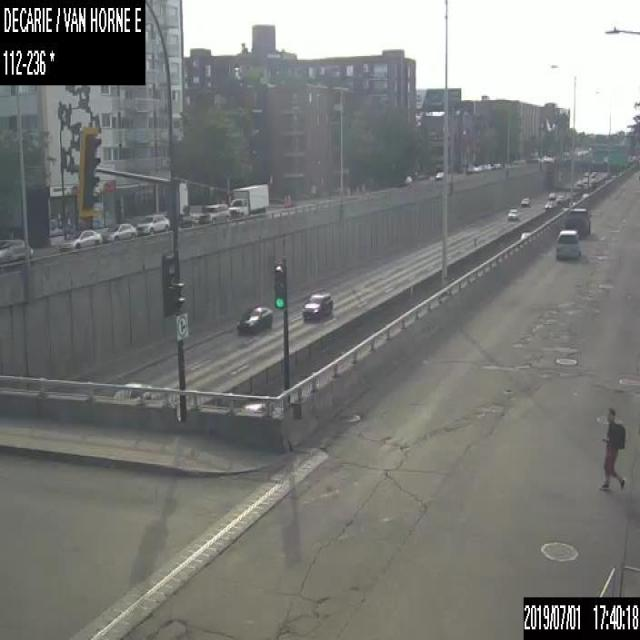pedestrian: (600, 405, 625, 491)
vehicle: (228, 183, 268, 215), (236, 304, 274, 335), (59, 228, 102, 251), (301, 291, 333, 321), (112, 381, 152, 401), (0, 234, 33, 258), (564, 208, 590, 235), (554, 230, 580, 257), (198, 202, 229, 224), (102, 222, 137, 241), (136, 214, 169, 232), (394, 174, 412, 185), (520, 194, 530, 207), (508, 208, 516, 220), (434, 169, 442, 179), (544, 200, 553, 208), (547, 192, 555, 198)
